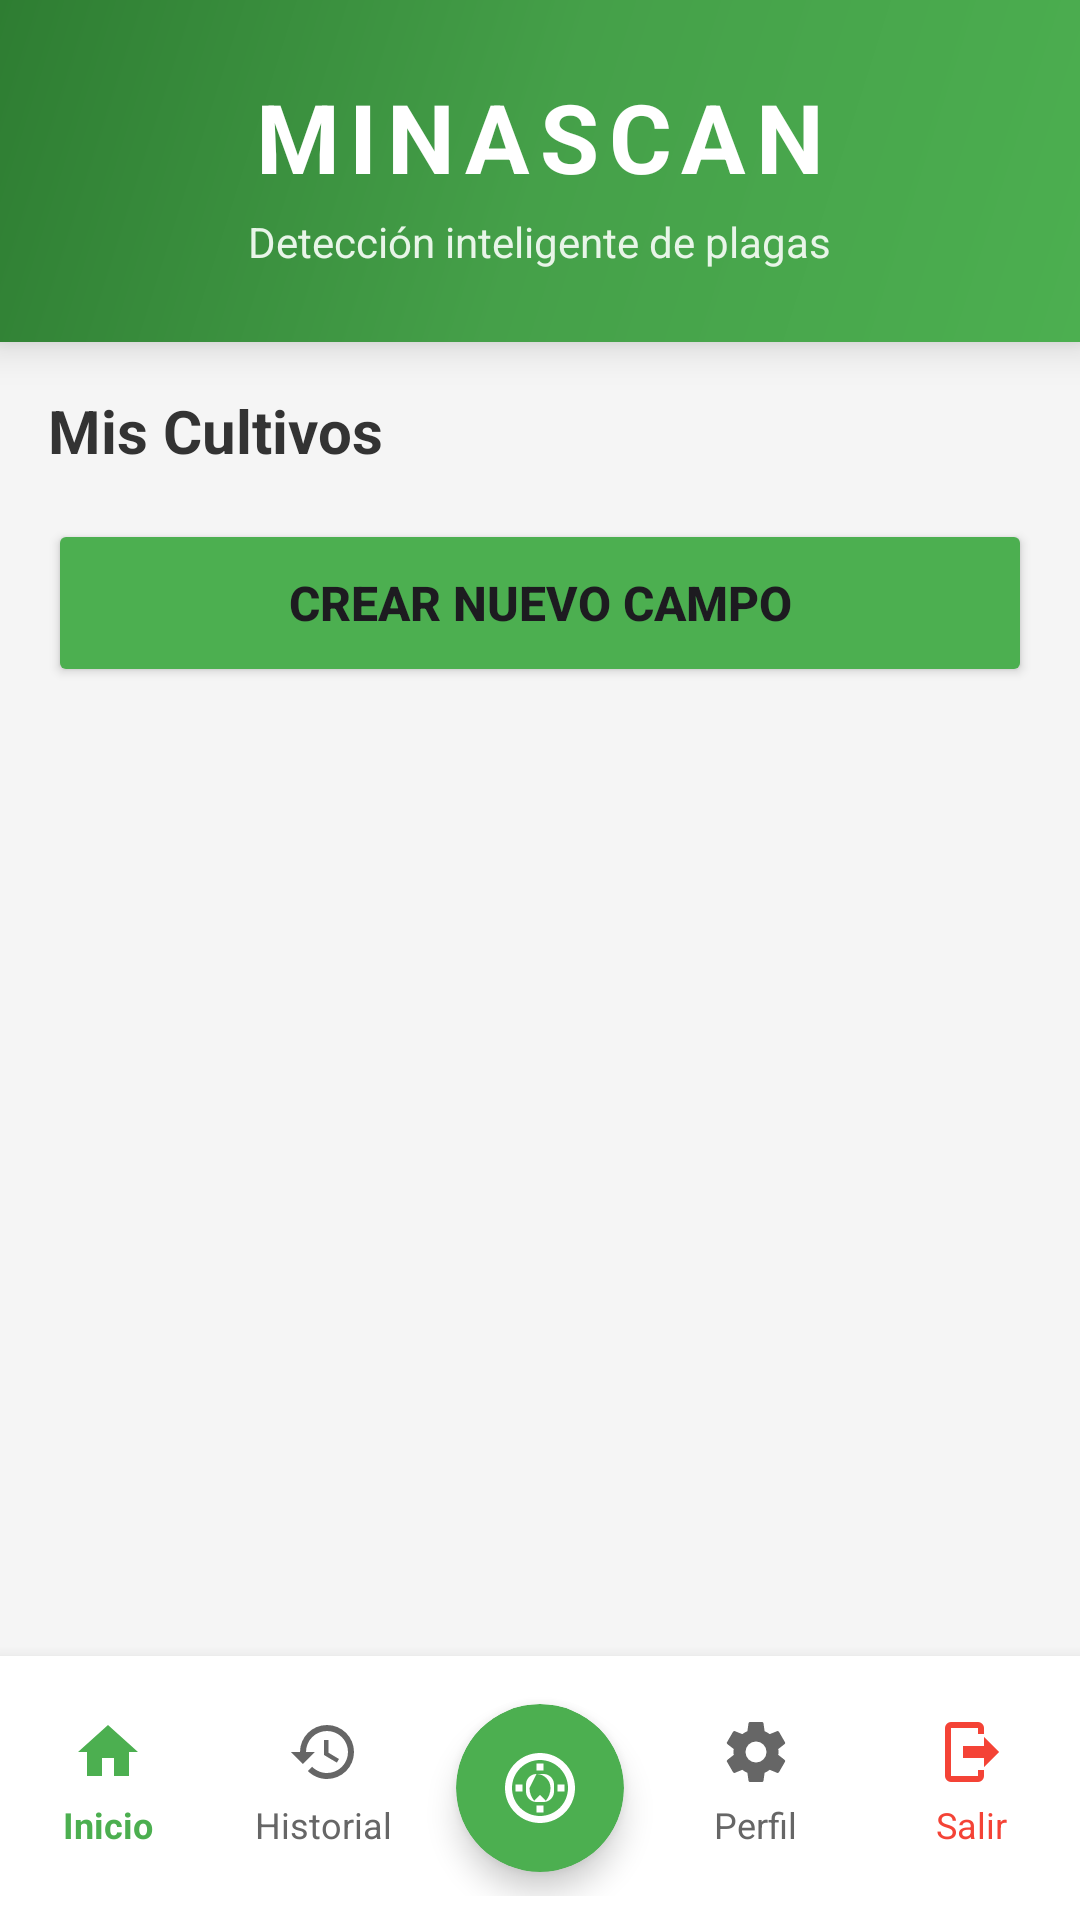

Point at icon controls on the screen. Image size 1080 × 1920, points as [x,y].
scanner: [540,1788]
settings: [756,1752]
